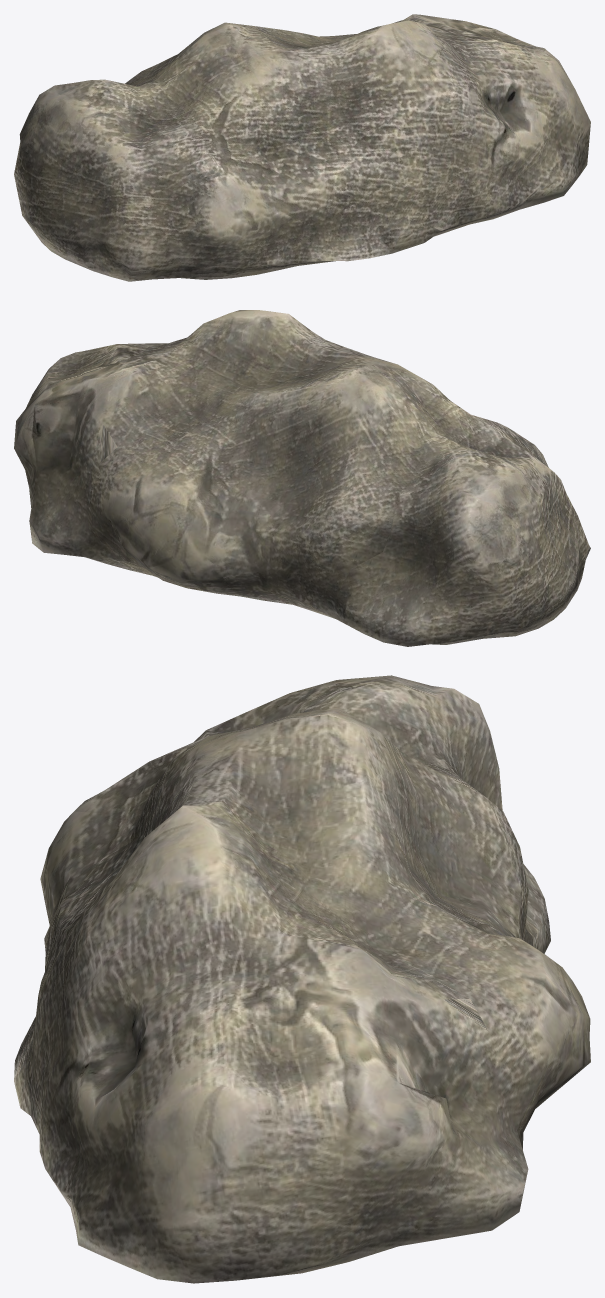
The model's file is rocks_free_essence_cache.glb.
3 renders of one model, top to bottom at view 1: azimuth 30°, elevation 25°; view 2: azimuth 150°, elevation 25°; view 3: azimuth 270°, elevation 25°, orthographic. The views are drawn at different scales.
Visible parts, largest first — view 1: rock5_LOD0; view 2: rock5_LOD0; view 3: rock5_LOD0.
Part boxes in pixels (<box>): rock5_LOD0: <box>14,14,590,281</box>; rock5_LOD0: <box>14,310,590,646</box>; rock5_LOD0: <box>14,675,590,1283</box>.
Size of the model in its own units: 30.6 by 10.67 by 17.55.
Materials: 1 (1 with a texture image).
